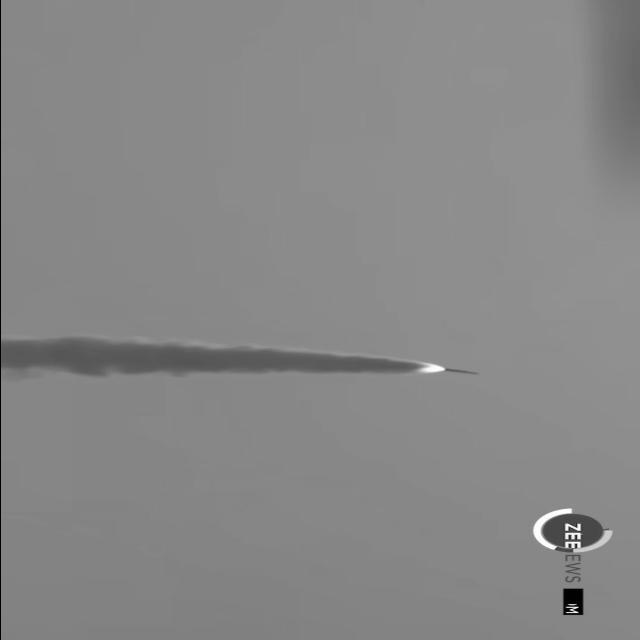Missile: (425, 364, 482, 376)
